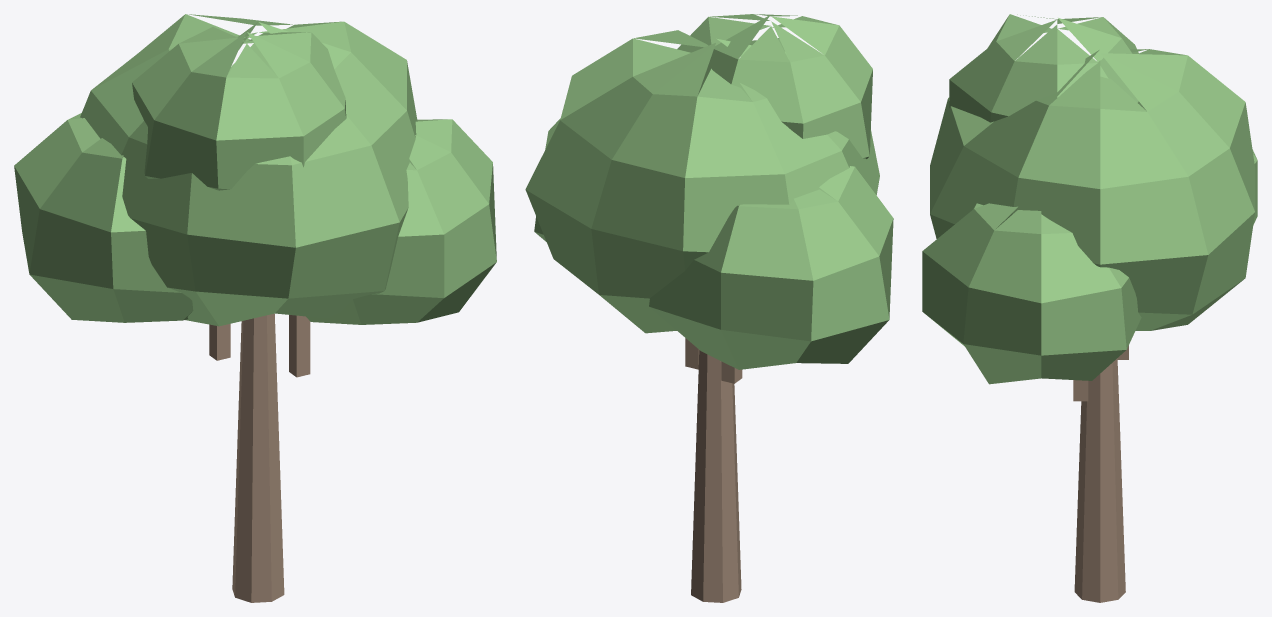
File: prop_tree.glb
3 renders of one model, left to right at view 1: azimuth 30°, elevation 25°; view 2: azimuth 150°, elevation 25°; view 3: azimuth 270°, elevation 25°, orthographic. The views are drawn at different scales.
Visible parts, largest first — view 1: prop_tree; view 2: prop_tree; view 3: prop_tree.
Boxes of the visible parts, left/top/right/bottom form: prop_tree: left=14, top=14, right=496, bottom=602; prop_tree: left=525, top=14, right=893, bottom=602; prop_tree: left=922, top=14, right=1257, bottom=602.
Size of the model in its own units: 4.19 by 5.77 by 3.14.
